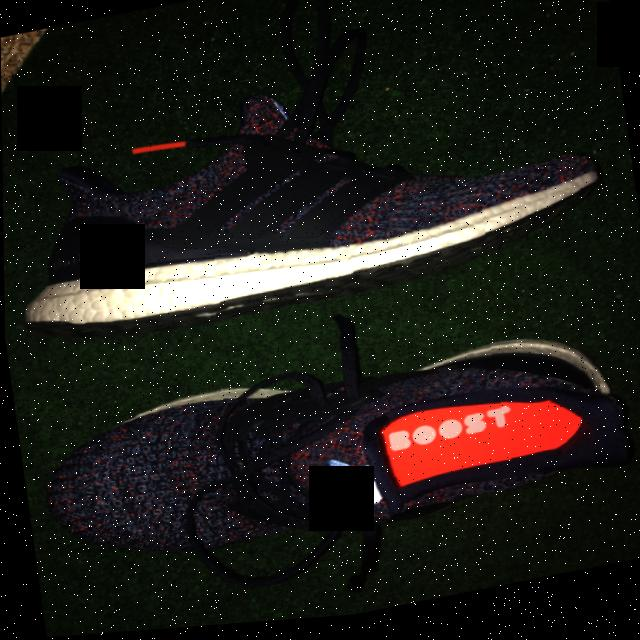shoe: (0, 0, 631, 377), (9, 269, 640, 640)
